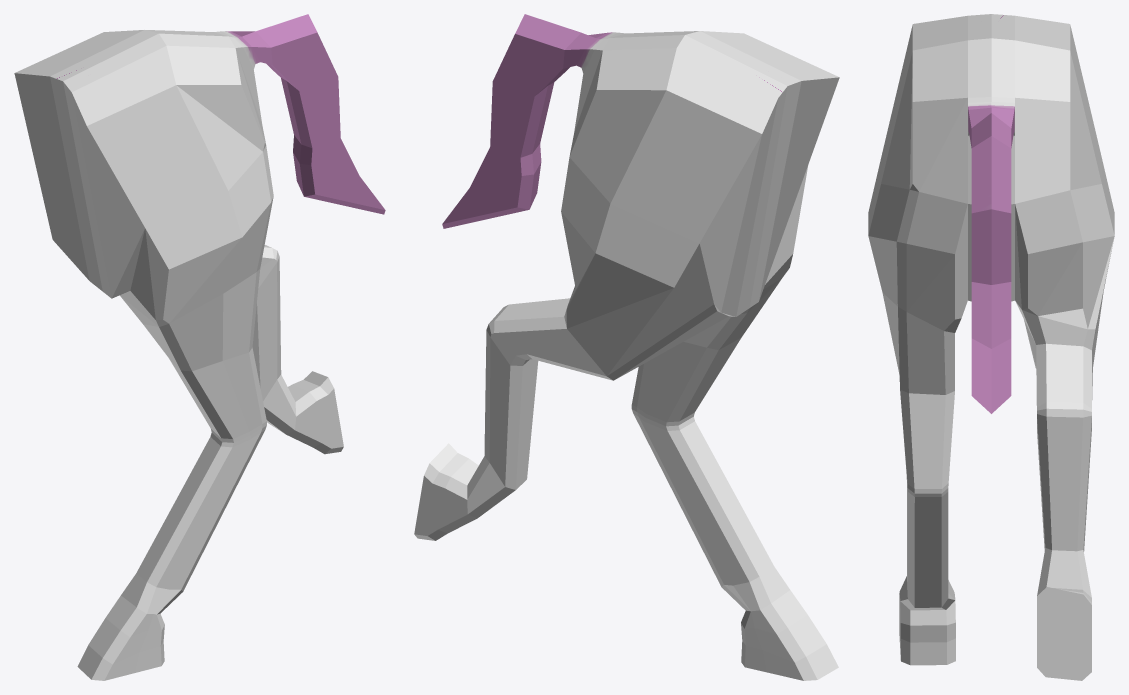
The model's file is Unicon_Separate_Pipi.fbx.
3 renders of one model, left to right at view 1: azimuth 30°, elevation 25°; view 2: azimuth 150°, elevation 25°; view 3: azimuth 270°, elevation 25°, orthographic. The views are drawn at different scales.
Parts seen in each view (by area): view 1: Unicon_Separate_Pipi; view 2: Unicon_Separate_Pipi; view 3: Unicon_Separate_Pipi.
Part boxes in pixels (x1=…): Unicon_Separate_Pipi: x1=14, y1=14, x2=385, y2=680; Unicon_Separate_Pipi: x1=414, y1=14, x2=839, y2=680; Unicon_Separate_Pipi: x1=868, y1=14, x2=1114, y2=680.
Bounding box in the file's own units: 1.63 × 2.76 × 0.9588.
